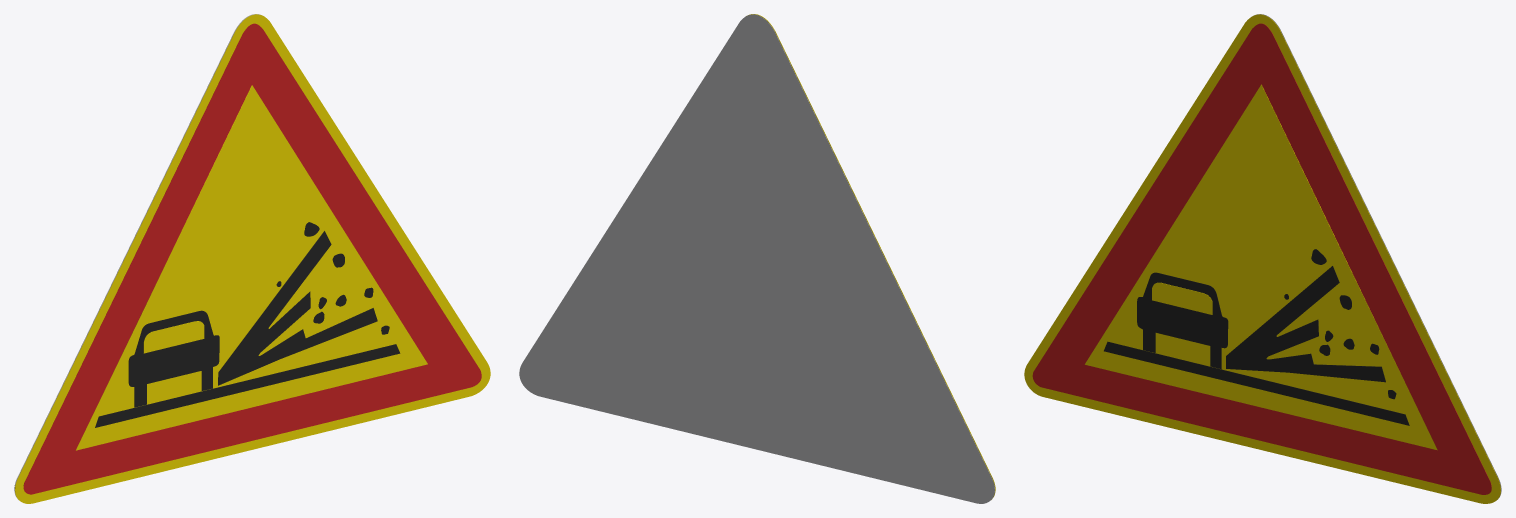
3 views of the same model, side by side, from view 1: azimuth 30°, elevation 25°; view 2: azimuth 150°, elevation 25°; view 3: azimuth 330°, elevation 25° (orthographic).
Visible parts, largest first — view 1: AK22_p01, AK22_p02, AK22_p00, AK22_p06, AK22_p04, AK22_p03, AK22_p05, AK22_dos; view 2: AK22_dos, AK22_p00; view 3: AK22_p01, AK22_p02, AK22_p00, AK22_p06, AK22_p04, AK22_p03, AK22_p05, AK22_dos.
Part boxes in pixels (x1,y1,x2,y2): AK22_p01: (23,23,481,494); AK22_p02: (76,85,427,450); AK22_p00: (15,14,490,503); AK22_p06: (218,231,377,385); AK22_p04: (128,310,219,407); AK22_p03: (95,344,400,427); AK22_p05: (143,321,204,353); AK22_dos: (14,14,261,499); AK22_dos: (519,14,994,503); AK22_p00: (748,14,995,499); AK22_p01: (1032,23,1491,494); AK22_p02: (1085,84,1437,450); AK22_p00: (1024,14,1500,503); AK22_p06: (1226,266,1385,382); AK22_p04: (1137,272,1228,369); AK22_p03: (1104,341,1409,425); AK22_p05: (1152,282,1212,314); AK22_dos: (1254,14,1501,499).
Size of the model in its own units: 0.7 by 0.6116 by 0.0075.
